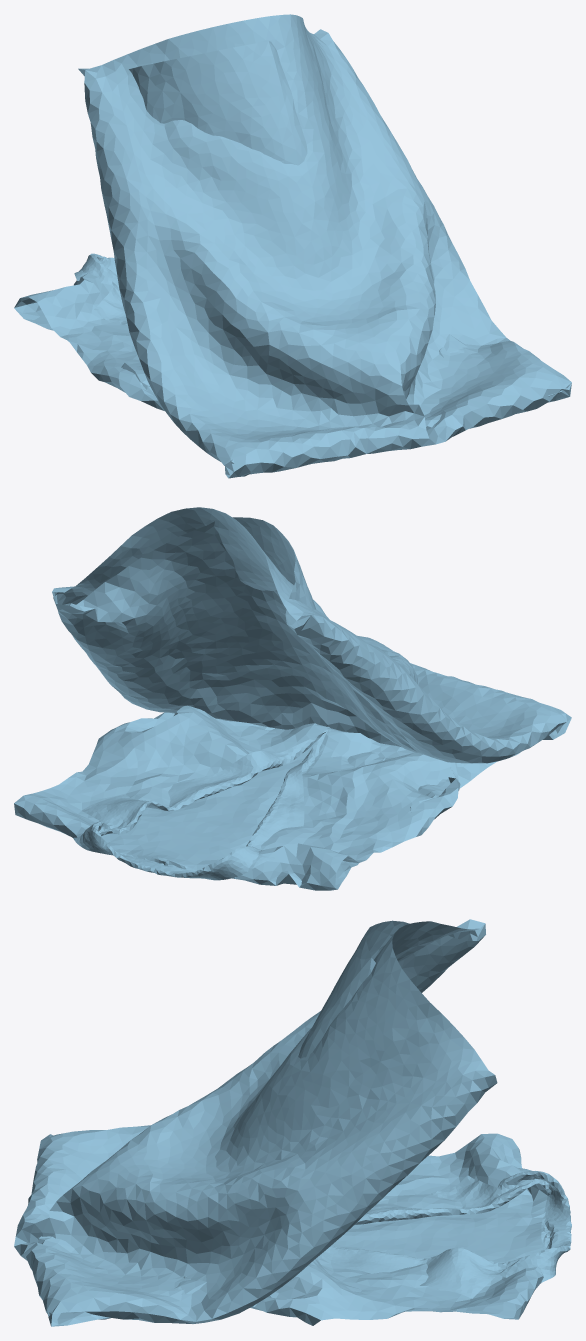
The model's file is frame_18.glb.
3 views of the same model, one above another, from view 1: azimuth 30°, elevation 25°; view 2: azimuth 150°, elevation 25°; view 3: azimuth 270°, elevation 25° (orthographic). The views are drawn at different scales.
Parts seen in each view (by area): view 1: frame_18.obj; view 2: frame_18.obj; view 3: frame_18.obj.
Part boxes in pixels (left/top/right/bottom): frame_18.obj: left=14, top=14, right=571, bottom=478; frame_18.obj: left=14, top=507, right=571, bottom=890; frame_18.obj: left=14, top=919, right=571, bottom=1326.
Size of the model in its own units: 0.6306 by 0.5218 by 0.8324.
